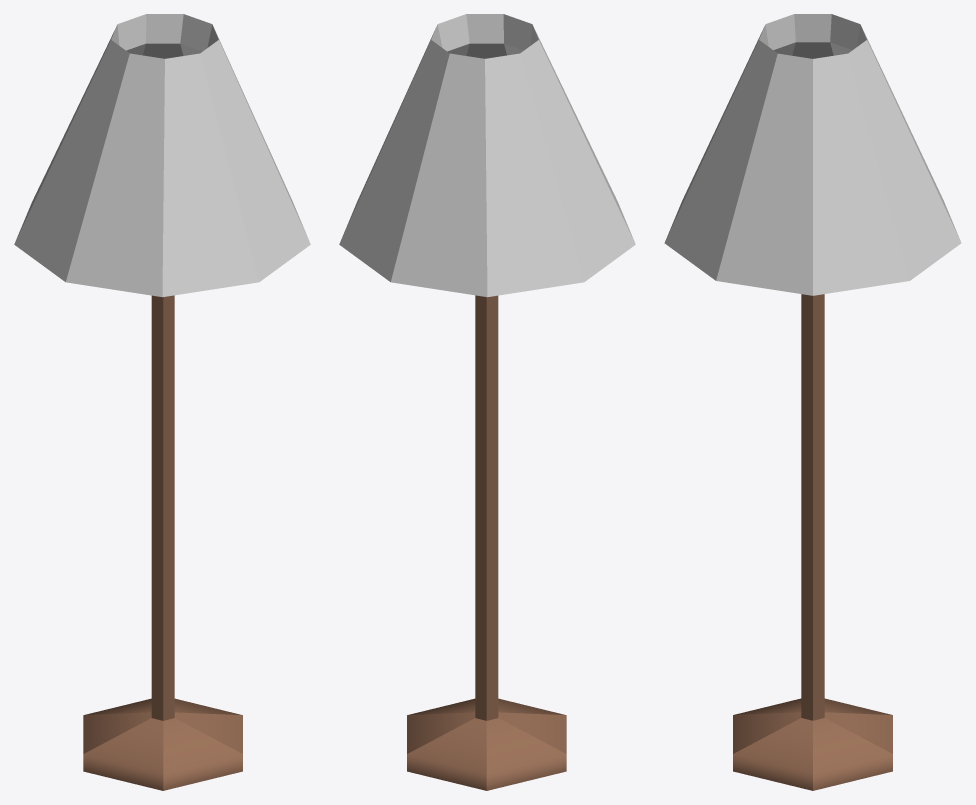
The model's file is PROP_Lamp.fbx.
3 renders of one model, left to right at view 1: azimuth 30°, elevation 25°; view 2: azimuth 150°, elevation 25°; view 3: azimuth 270°, elevation 25°, orthographic.
Visible parts, largest first — view 1: GEO_Lamp_Cover, GEO_Base, GEO_Stand_Bottom, GEO_Stand_Top; view 2: GEO_Lamp_Cover, GEO_Base, GEO_Stand_Bottom, GEO_Stand_Top; view 3: GEO_Lamp_Cover, GEO_Base, GEO_Stand_Bottom, GEO_Stand_Top.
Boxes of the visible parts, bbox=[...] form: GEO_Lamp_Cover: bbox=[14, 14, 310, 297]; GEO_Base: bbox=[83, 698, 242, 790]; GEO_Stand_Bottom: bbox=[151, 415, 174, 720]; GEO_Stand_Top: bbox=[151, 295, 174, 417]; GEO_Lamp_Cover: bbox=[339, 14, 635, 297]; GEO_Base: bbox=[407, 698, 566, 790]; GEO_Stand_Bottom: bbox=[475, 415, 498, 720]; GEO_Stand_Top: bbox=[475, 295, 498, 417]; GEO_Lamp_Cover: bbox=[664, 14, 961, 295]; GEO_Base: bbox=[733, 698, 892, 790]; GEO_Stand_Bottom: bbox=[801, 414, 824, 720]; GEO_Stand_Top: bbox=[801, 294, 824, 416].
Bounding box in the file's own units: 77.91 × 211 × 79.11.
2 materials, 1 textured.
